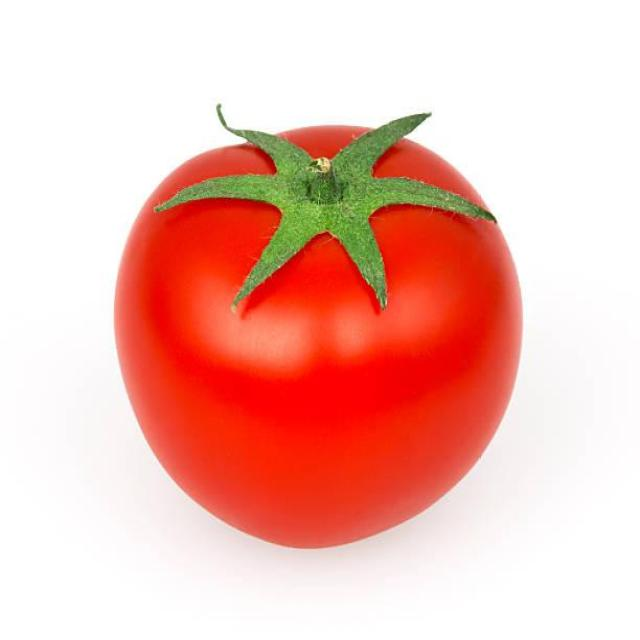Tomato: (115, 105, 521, 547)
